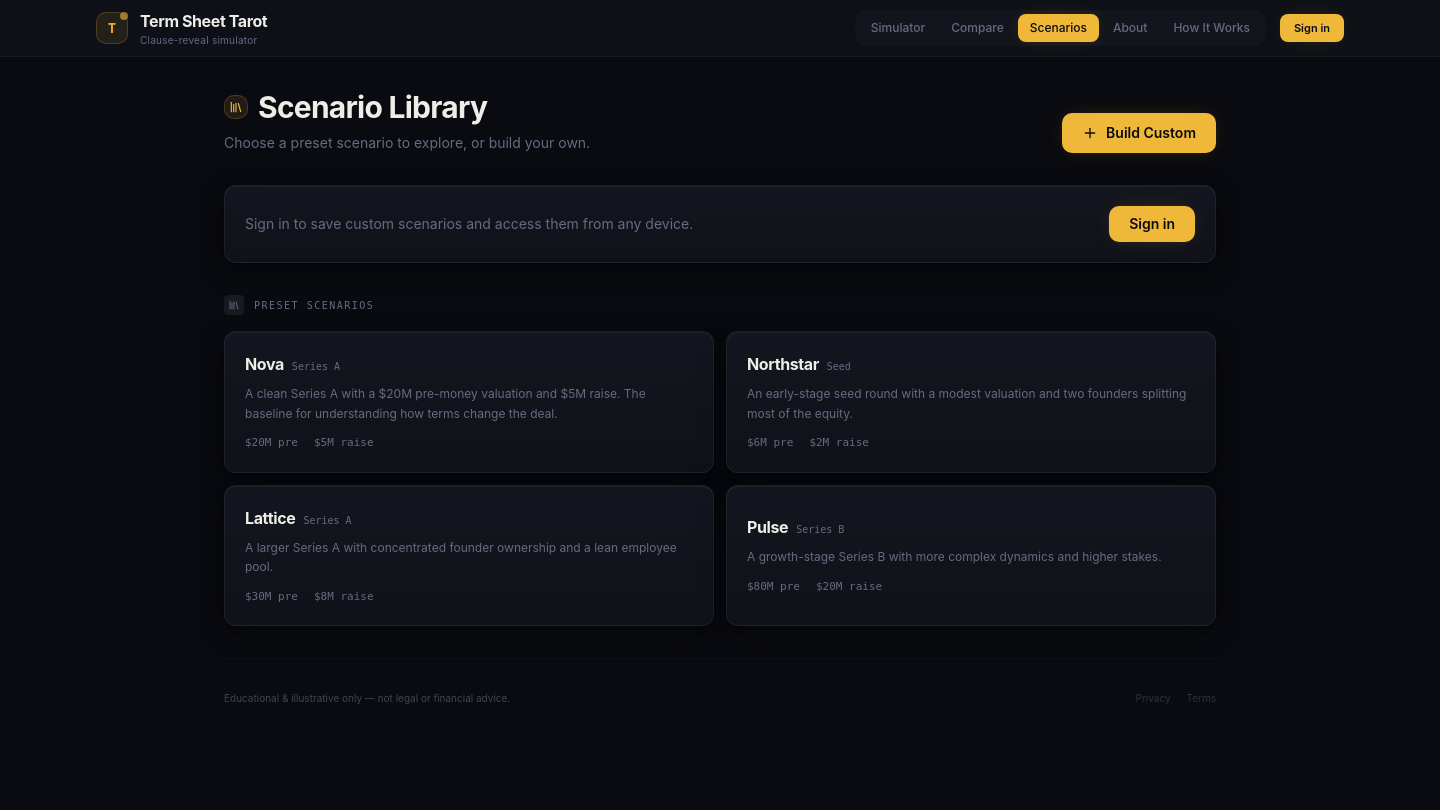
Test: ScenariosPage › shows the signed-out prompt and opens auth
The image size is (1440, 810).
expect the text "Sign in to save custom scenarios and access them from any device." is shown: met, box [245, 214, 693, 234]
Click the button "Sign in" below "Build Custom": [1152, 224] box [1109, 206, 1195, 242]
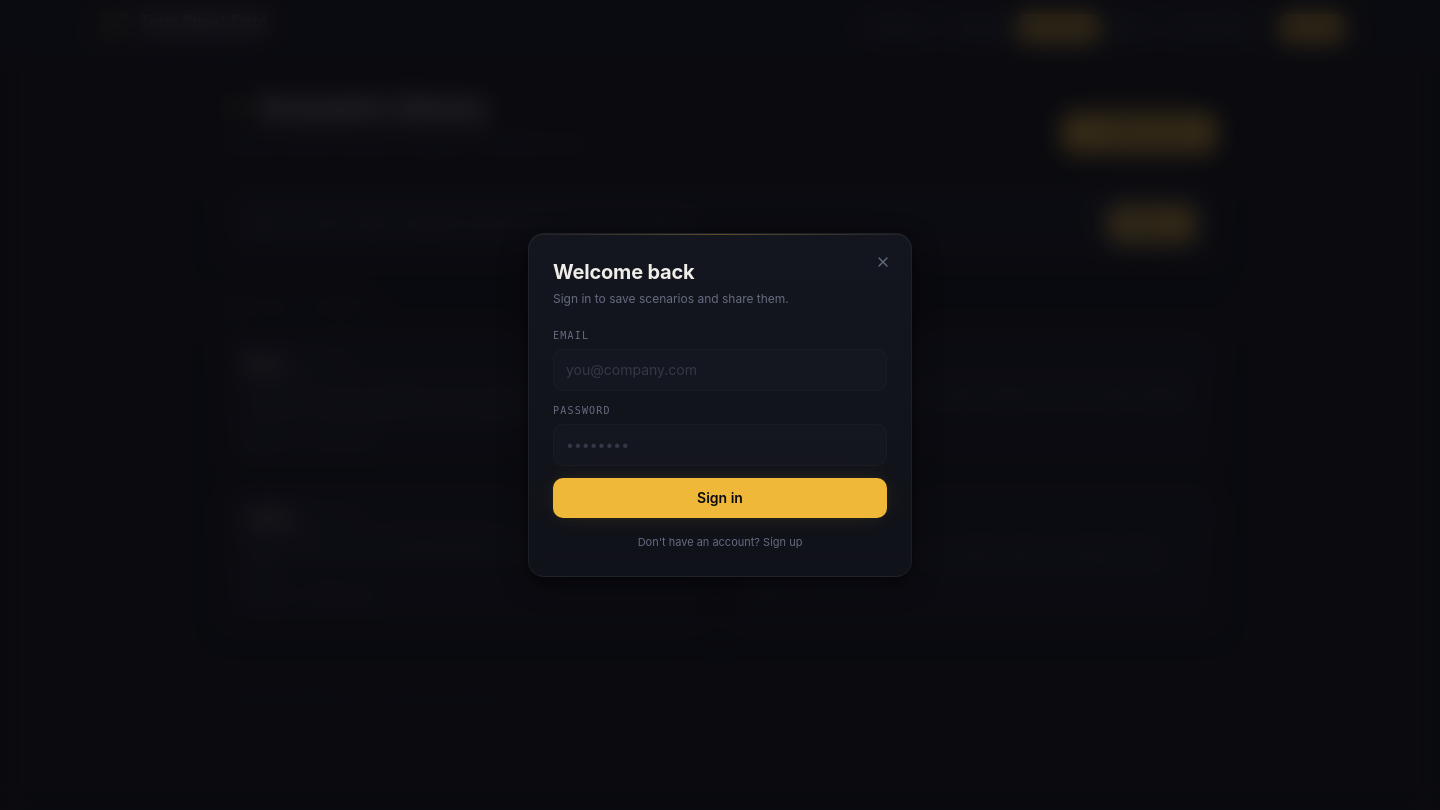
expect the heading "Welcome back" is shown: met, box [553, 260, 694, 284]
